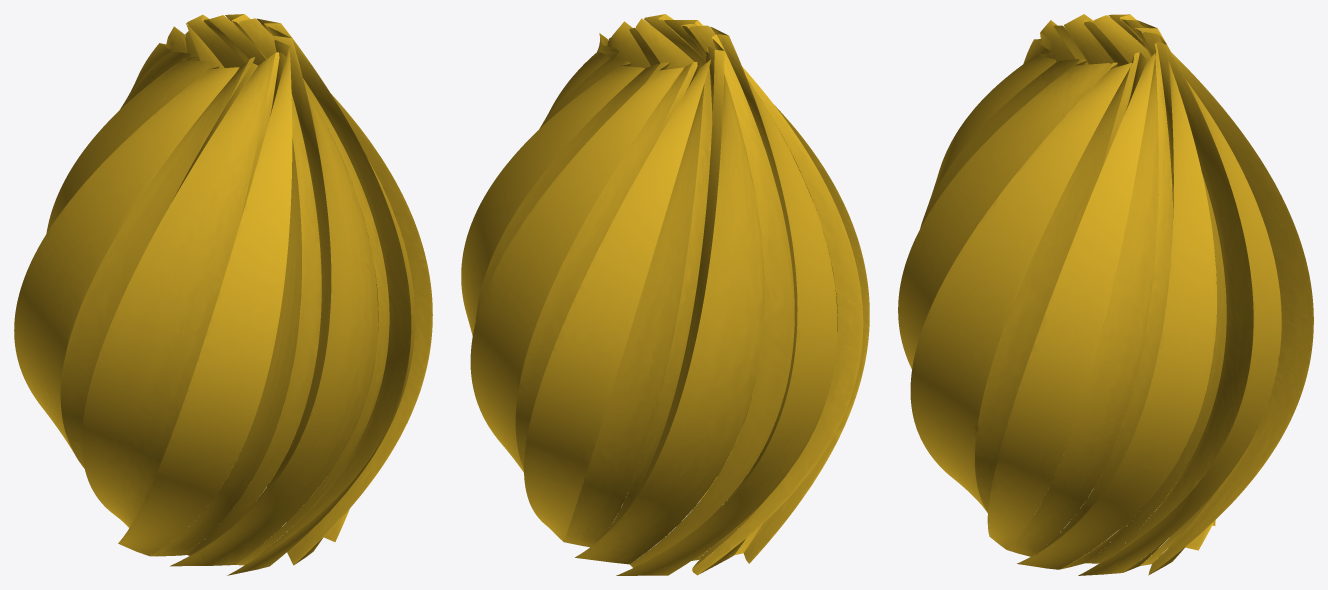
The model's file is blade-solo-e8b923.glb.
3 views of the same model, side by side, from view 1: azimuth 30°, elevation 25°; view 2: azimuth 150°, elevation 25°; view 3: azimuth 270°, elevation 25° (orthographic).
Parts seen in each view (by area): view 1: Blade; view 2: Blade; view 3: Blade.
Boxes of the visible parts, x1,y1,x2,y2 form: Blade: [14, 14, 432, 575]; Blade: [461, 14, 869, 575]; Blade: [898, 14, 1313, 575].
Bounding box in the file's own units: 0.2775 × 0.37 × 0.2841.
